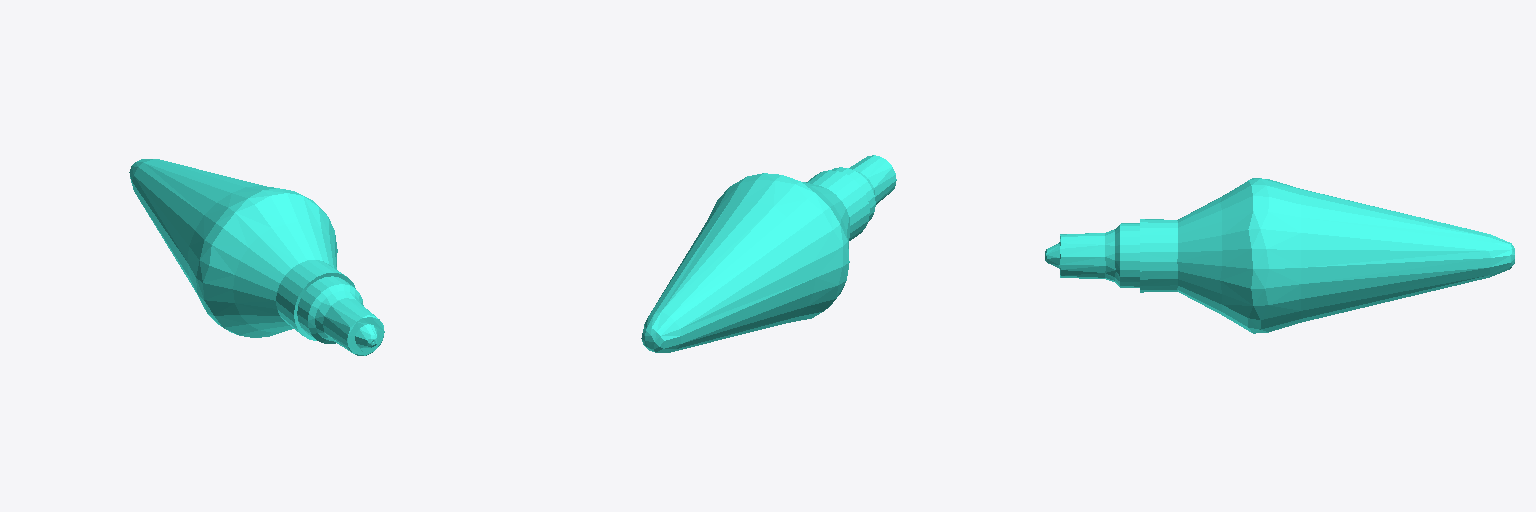
The picture shows the model from 3 angles: view 1: azimuth 30°, elevation 25°; view 2: azimuth 150°, elevation 25°; view 3: azimuth 270°, elevation 25°; orthographic projection.
Visible parts, largest first — view 1: DirectionalLight_Hexagonal_Candle; view 2: DirectionalLight_Hexagonal_Candle; view 3: DirectionalLight_Hexagonal_Candle.
Part boxes in pixels (x1,y1,x2,y2): DirectionalLight_Hexagonal_Candle: (129,159,384,355); DirectionalLight_Hexagonal_Candle: (641,155,896,352); DirectionalLight_Hexagonal_Candle: (1045,178,1514,333).
Size of the model in its own units: 0.4994 by 0.5006 by 1.51.
1 materials, 1 textured.